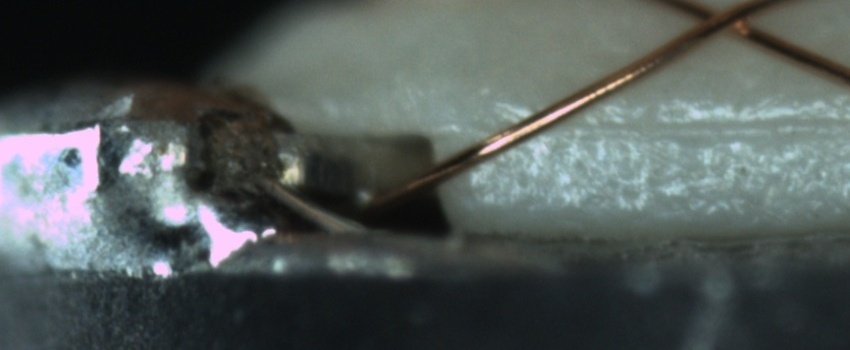CL: (683, 0, 768, 44)
DL: (513, 98, 850, 162)
